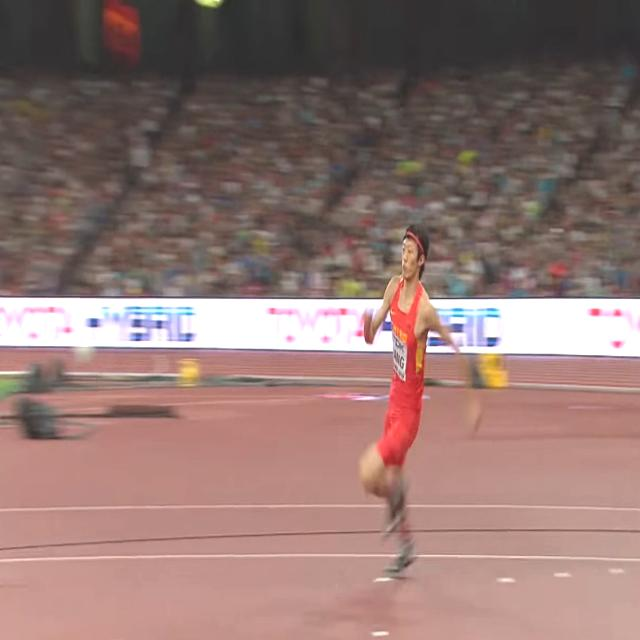run: (361, 227, 481, 573)
